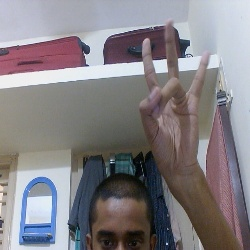hand: (123, 28, 210, 180)
